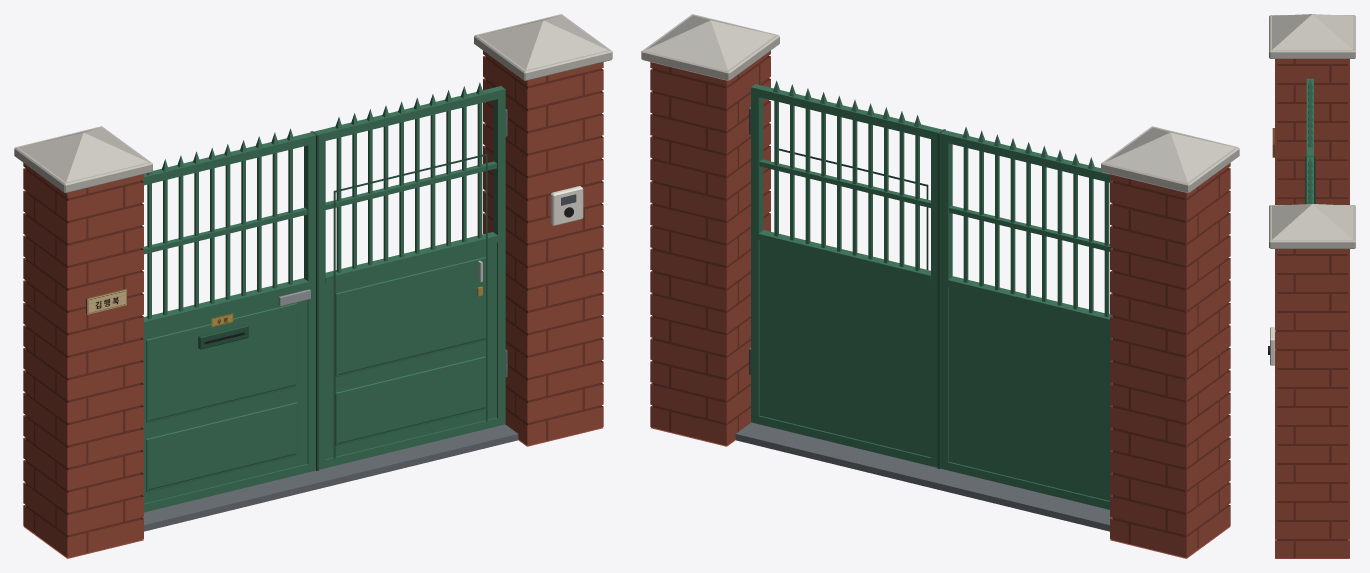
Rendered from SC_Bld_Villa_Gate_Green.gltf.
3 renders of one model, left to right at view 1: azimuth 30°, elevation 25°; view 2: azimuth 150°, elevation 25°; view 3: azimuth 270°, elevation 25°, orthographic. The views are drawn at different scales.
Parts seen in each view (by area): view 1: SC_Bld_Villa_Gate_Green; view 2: SC_Bld_Villa_Gate_Green; view 3: SC_Bld_Villa_Gate_Green.
Part boxes in pixels (x1,y1,x2,y2): SC_Bld_Villa_Gate_Green: (14, 14, 612, 558); SC_Bld_Villa_Gate_Green: (641, 14, 1239, 558); SC_Bld_Villa_Gate_Green: (1268, 14, 1355, 558).
Size of the model in its own units: 3.58 by 2.5 by 0.587.
2 materials, 2 textured.
